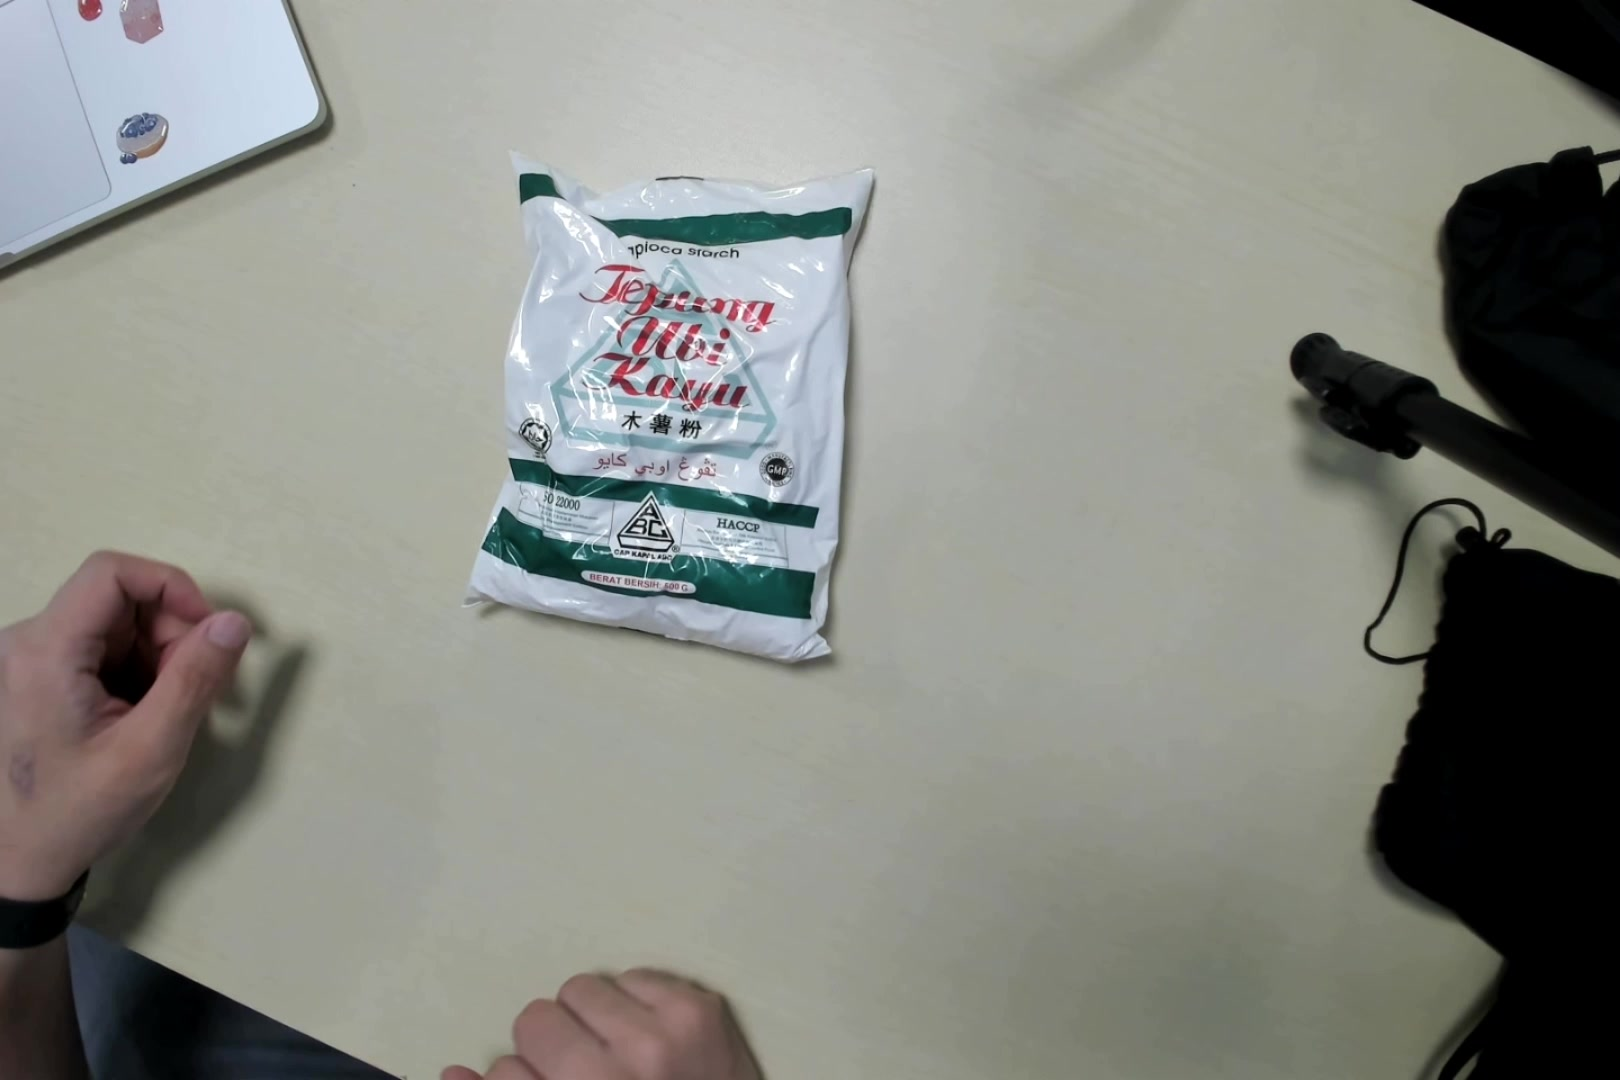Flour_500-599g_Halal_NonHealthy: (472, 154, 880, 681)
